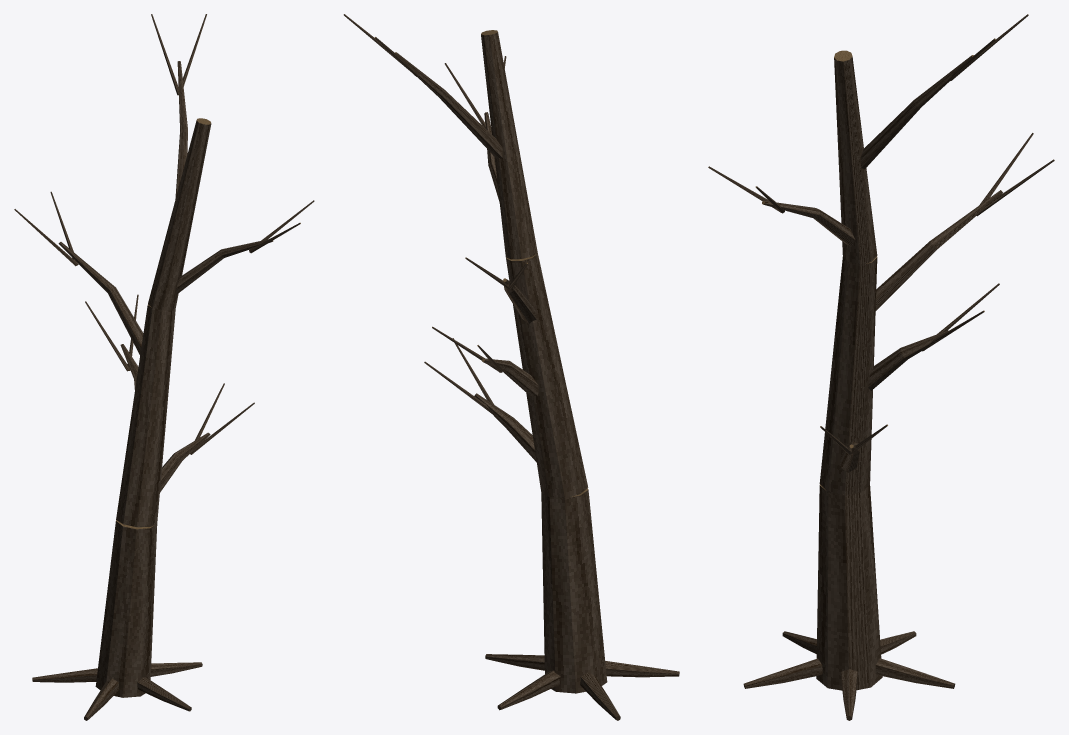
Rendered from env_trees_03_wind_bent.glb.
The picture shows the model from 3 angles, left to right: view 1: azimuth 30°, elevation 25°; view 2: azimuth 150°, elevation 25°; view 3: azimuth 270°, elevation 25°; orthographic projection. The views are drawn at different scales.
Parts seen in each view (by area): view 1: solid; view 2: solid; view 3: solid.
Boxes of the visible parts, left/top/right/bottom form: solid: left=14, top=14, right=314, bottom=720; solid: left=343, top=14, right=679, bottom=720; solid: left=708, top=14, right=1054, bottom=720.
Bounding box in the file's own units: 2 × 5.22 × 2.26.
Materials: 1 (1 with a texture image).
